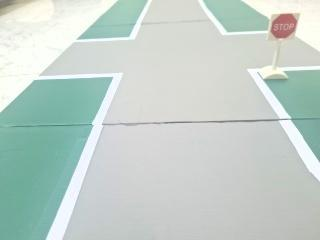stop: (263, 10, 303, 44)
